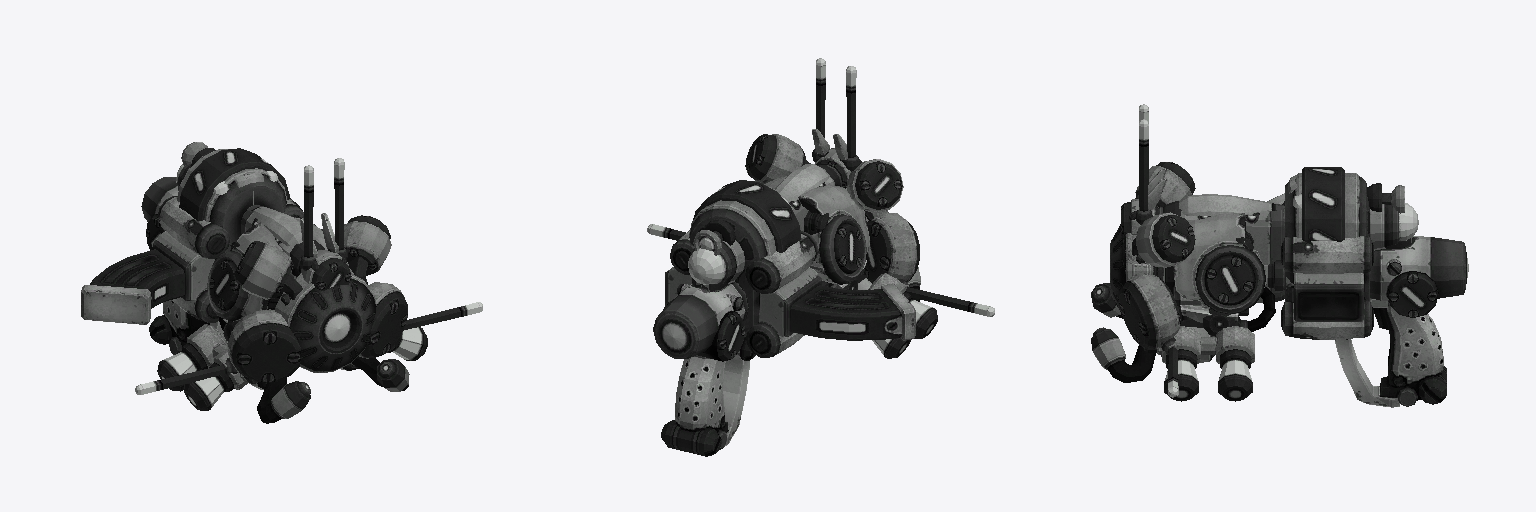
3 renders of one model, left to right at view 1: azimuth 30°, elevation 25°; view 2: azimuth 150°, elevation 25°; view 3: azimuth 270°, elevation 25°, orthographic.
Parts seen in each view (by area): view 1: UpgradeRicochet, UpgradeImpactor, TriggerCharge, TriggerHasty1, TriggerHasty2, ChamberBlast, UpgradeScorcher, Stock, ChamberCoil, ChamberBeam, TriggerPull; view 2: Stock, UpgradeRicochet, TriggerHasty1, TriggerCharge, TriggerHasty2, ChamberBlast, UpgradeImpactor, ChamberCoil, ChamberBeam; view 3: Stock, UpgradeRicochet, TriggerHasty1, ChamberBlast, TriggerCharge, UpgradeImpactor, ChamberBeam, UpgradeScorcher, ChamberCoil.
Boxes of the visible parts, x1,y1,x2,y2 form: UpgradeRicochet: [135, 158, 482, 394]; UpgradeImpactor: [157, 213, 427, 410]; TriggerCharge: [176, 148, 289, 245]; TriggerHasty1: [153, 142, 303, 322]; TriggerHasty2: [81, 249, 184, 324]; ChamberBlast: [207, 205, 327, 340]; UpgradeScorcher: [249, 356, 409, 423]; Stock: [141, 177, 227, 354]; ChamberCoil: [243, 207, 316, 246]; ChamberBeam: [226, 206, 321, 338]; TriggerPull: [213, 168, 277, 204]; Stock: [653, 282, 755, 456]; UpgradeRicochet: [647, 58, 994, 316]; TriggerHasty1: [665, 220, 821, 357]; TriggerCharge: [688, 180, 800, 284]; TriggerHasty2: [791, 283, 915, 340]; ChamberBlast: [764, 165, 869, 288]; UpgradeImpactor: [812, 129, 937, 358]; ChamberCoil: [775, 164, 860, 285]; ChamberBeam: [789, 165, 865, 289]; Stock: [1335, 236, 1468, 407]; UpgradeRicochet: [1119, 104, 1195, 397]; TriggerHasty1: [1281, 183, 1412, 339]; ChamberBlast: [1163, 201, 1284, 331]; TriggerCharge: [1285, 167, 1418, 302]; UpgradeImpactor: [1110, 168, 1254, 401]; ChamberBeam: [1159, 204, 1284, 336]; UpgradeScorcher: [1091, 283, 1214, 382]; ChamberCoil: [1178, 194, 1284, 320].
Size of the model in its own units: 9.68 by 7.67 by 9.14.
11 materials, 11 textured.